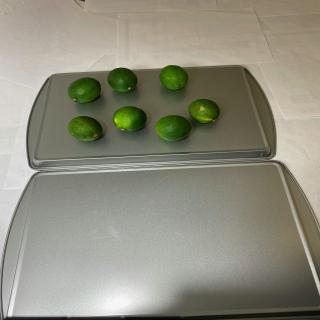Chilli: (66, 64, 221, 143)
Lemon: (155, 115, 192, 141), (68, 115, 102, 142), (112, 106, 147, 132), (67, 77, 101, 103), (188, 98, 220, 124), (159, 65, 189, 90), (107, 68, 138, 92)
